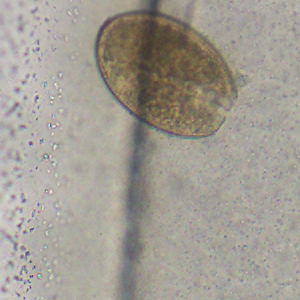Fasciola_hepatica_egg: (95, 9, 239, 139)
